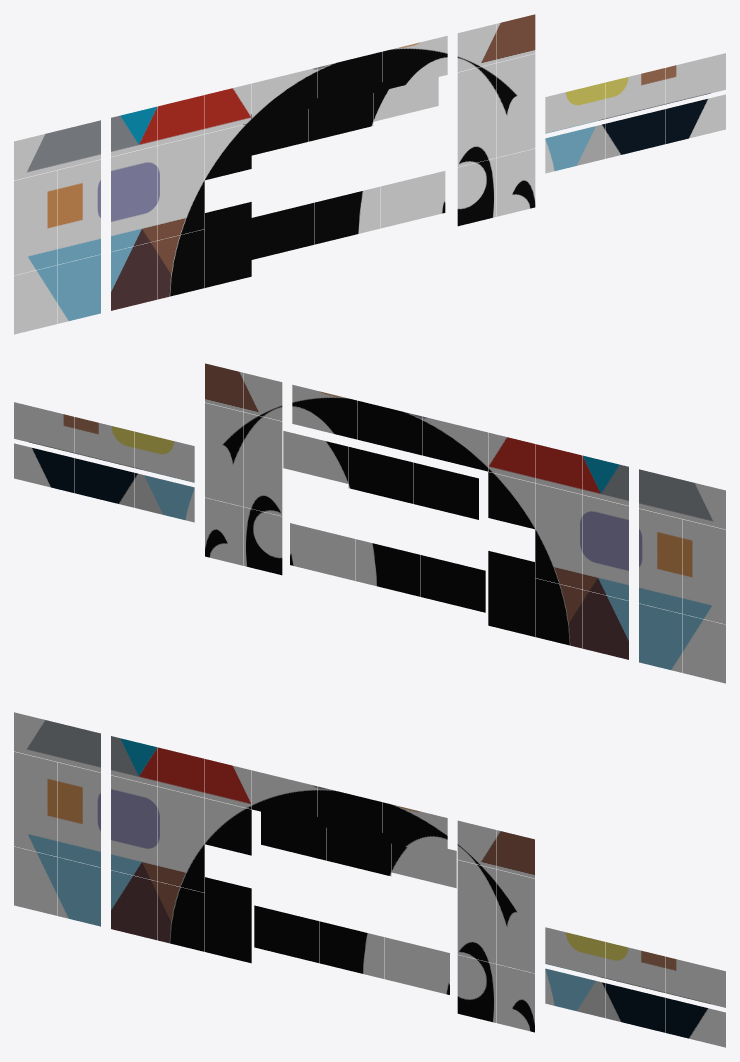
Rendered from Kitchen_V008_Texture.gltf.
The picture shows the model from 3 angles, top to bottom: view 1: azimuth 30°, elevation 25°; view 2: azimuth 150°, elevation 25°; view 3: azimuth 330°, elevation 25°; orthographic projection.
Visible parts, largest first — view 1: KitchenTexture; view 2: KitchenTexture; view 3: KitchenTexture.
Boxes of the visible parts, x1,y1,x2,y2 form: KitchenTexture: (14, 14, 725, 334); KitchenTexture: (14, 363, 725, 683); KitchenTexture: (14, 712, 725, 1047).
Bounding box in the file's own units: 9.1 × 2.36 × 0.1999.
1 material, 1 textured.
